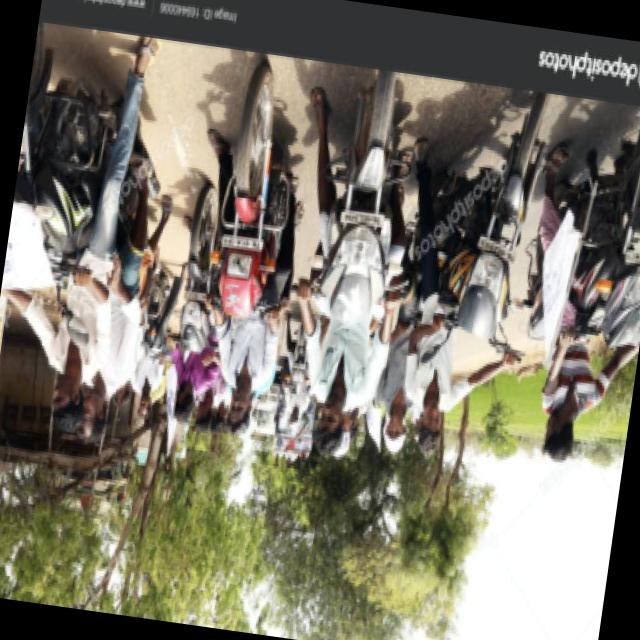bareface: (40, 365, 90, 442), (213, 373, 260, 442), (408, 388, 450, 458), (536, 406, 580, 470), (309, 387, 347, 459), (376, 404, 412, 464), (165, 379, 198, 428), (126, 377, 154, 428), (278, 390, 306, 439)
